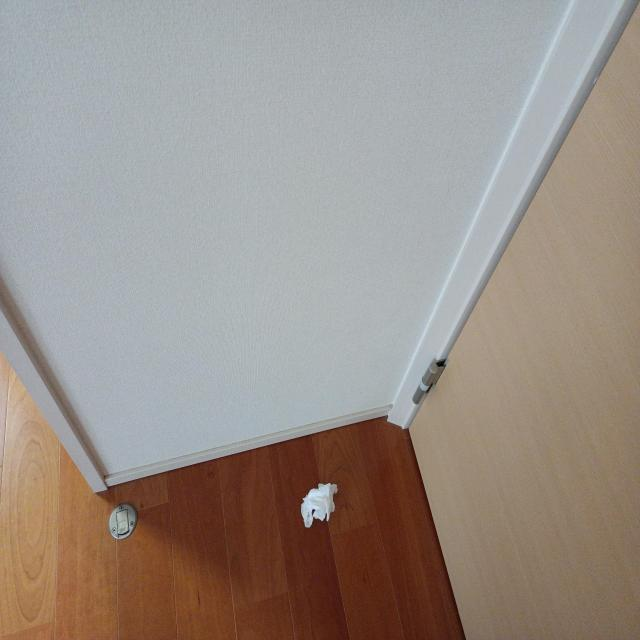Paper: (299, 476, 349, 538)
